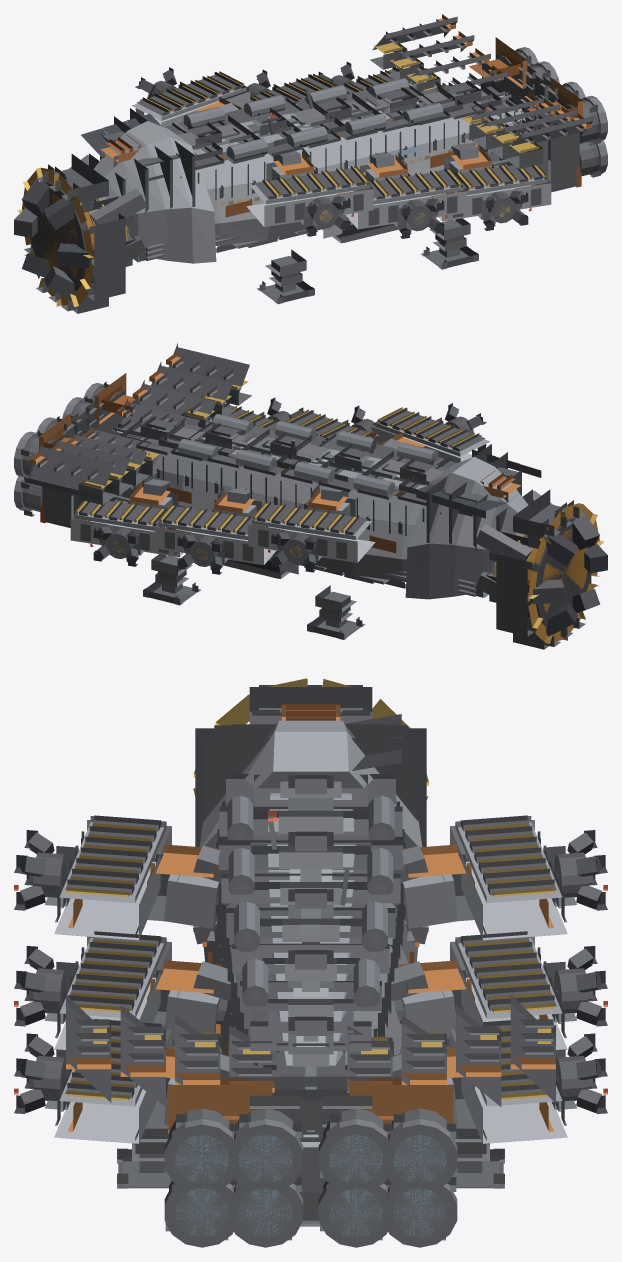
The model's file is armstrong_imp.glb.
3 views of the same model, one above another, from view 1: azimuth 30°, elevation 25°; view 2: azimuth 150°, elevation 25°; view 3: azimuth 270°, elevation 25° (orthographic). The views are drawn at different scales.
Visible parts, largest first — view 1: hull_bow, dorsal, hull_mid, arm_0r, arm_1r, arm_2r, fins_r, hull_rear, jaws, fins_l, visor_ring, arm_0l (+10 smaller); view 2: hull_bow, dorsal, hull_mid, arm_0l, fins_r, fins_l, arm_1l, arm_2l, jaws, arm_0r, visor_ring, hull_rear (+10 smaller); view 3: dorsal, engines, arm_0r, arm_0l, hull_bow, arm_1l, arm_1r, fins_l, hull_rear, fins_r, hull_mid, arm_2r (+8 smaller).
Boxes of the visible parts, box(x1,y1,x2,y2) form: hull_bow: box(14, 108, 216, 299); dorsal: box(148, 78, 540, 180); hull_mid: box(180, 92, 527, 252); arm_0r: box(246, 148, 373, 236); arm_1r: box(345, 152, 467, 238); arm_2r: box(438, 143, 551, 230); fins_r: box(461, 91, 593, 169); hull_rear: box(469, 37, 582, 192); jaws: box(24, 154, 125, 313); fins_l: box(370, 14, 507, 91); visor_ring: box(17, 167, 94, 307); arm_0l: box(131, 67, 250, 129); hull_bow: box(405, 444, 607, 636); dorsal: box(81, 414, 473, 516); hull_mid: box(122, 428, 441, 588); arm_0l: box(248, 484, 375, 572); fins_r: box(116, 343, 251, 427); fins_l: box(28, 424, 163, 504); arm_1l: box(154, 487, 276, 574); arm_2l: box(70, 479, 183, 566); jaws: box(496, 489, 597, 649); arm_0r: box(371, 403, 492, 465); visor_ring: box(527, 503, 604, 643); hull_rear: box(39, 373, 139, 527); dorsal: box(218, 774, 403, 1137); engines: box(164, 1108, 457, 1247); arm_0r: box(14, 815, 229, 944); arm_0l: box(392, 815, 607, 944); hull_bow: box(193, 704, 428, 931); arm_1l: box(386, 931, 607, 1052); arm_1r: box(14, 931, 235, 1052); fins_l: box(347, 995, 555, 1106); hull_rear: box(168, 1076, 453, 1226); fins_r: box(66, 995, 274, 1110); hull_mid: box(202, 793, 419, 1192); arm_2r: box(14, 1019, 229, 1143).
Size of the model in its own units: 441 by 121 by 262.
